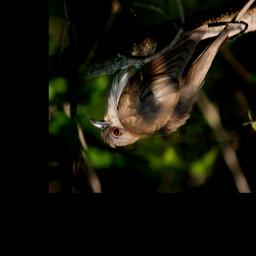Cuckoo: (88, 0, 256, 150)
